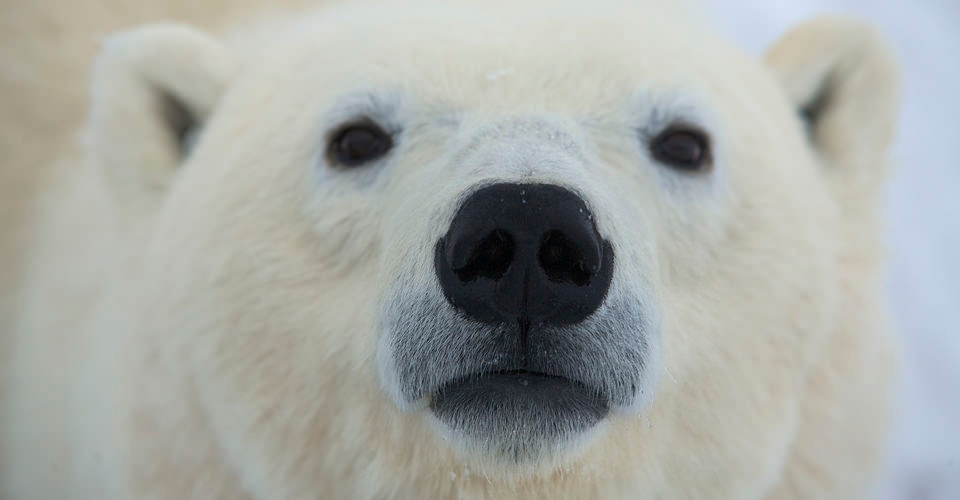Polar Bear: (83, 1, 925, 500)
